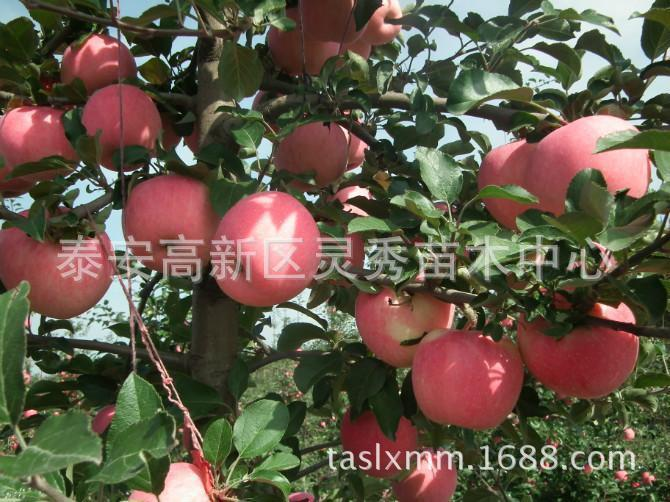apple: (526, 117, 658, 223), (206, 189, 320, 307), (410, 328, 524, 429), (120, 172, 219, 285), (521, 310, 640, 399), (273, 120, 363, 184)
